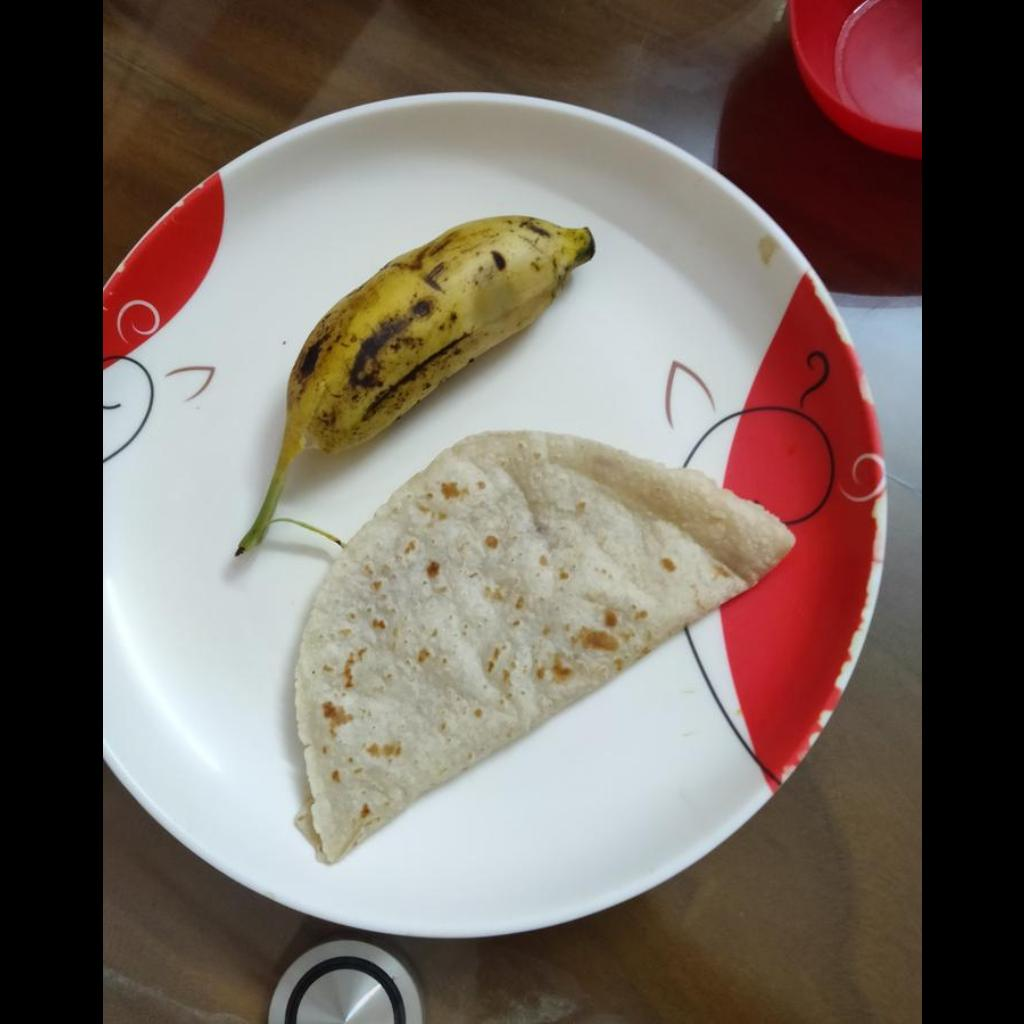banana: (282, 215, 600, 461)
ruti: (296, 431, 797, 865)
